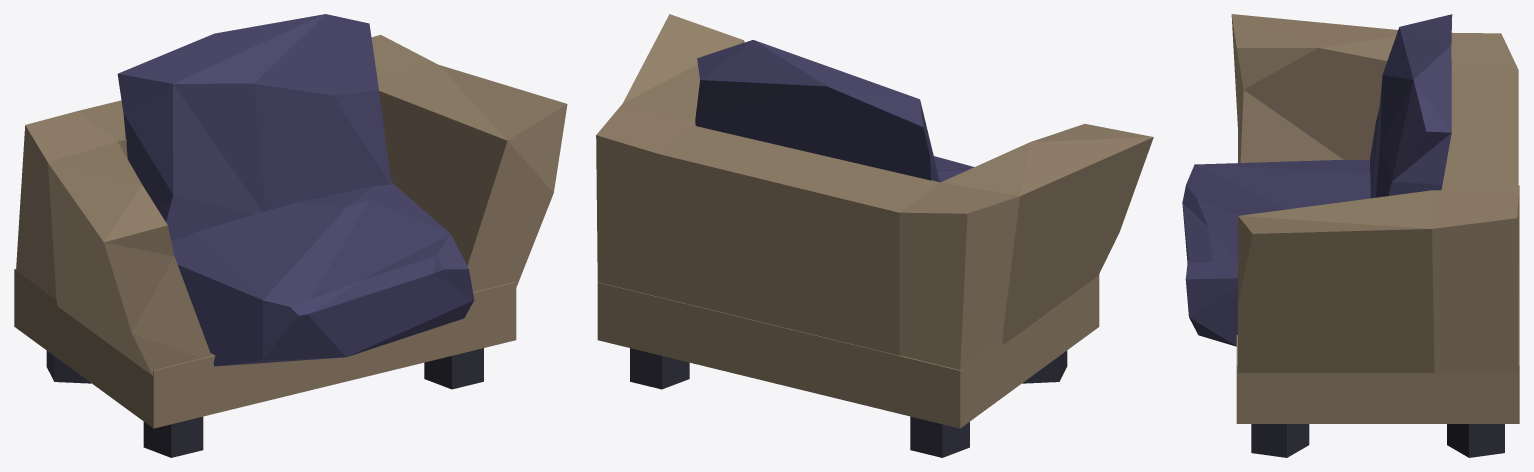
Rendered from fauteuil2.fbx.
The picture shows the model from 3 angles, left to right: view 1: azimuth 30°, elevation 25°; view 2: azimuth 150°, elevation 25°; view 3: azimuth 270°, elevation 25°; orthographic projection.
Visible parts, largest first — view 1: Cylinder.001; view 2: Cylinder.001; view 3: Cylinder.001.
Part boxes in pixels (box(x1,y1,x2,y2)): Cylinder.001: box(14, 14, 567, 457); Cylinder.001: box(596, 14, 1153, 457); Cylinder.001: box(1182, 14, 1519, 457).
Bounding box in the file's own units: 333 × 221 × 202.
